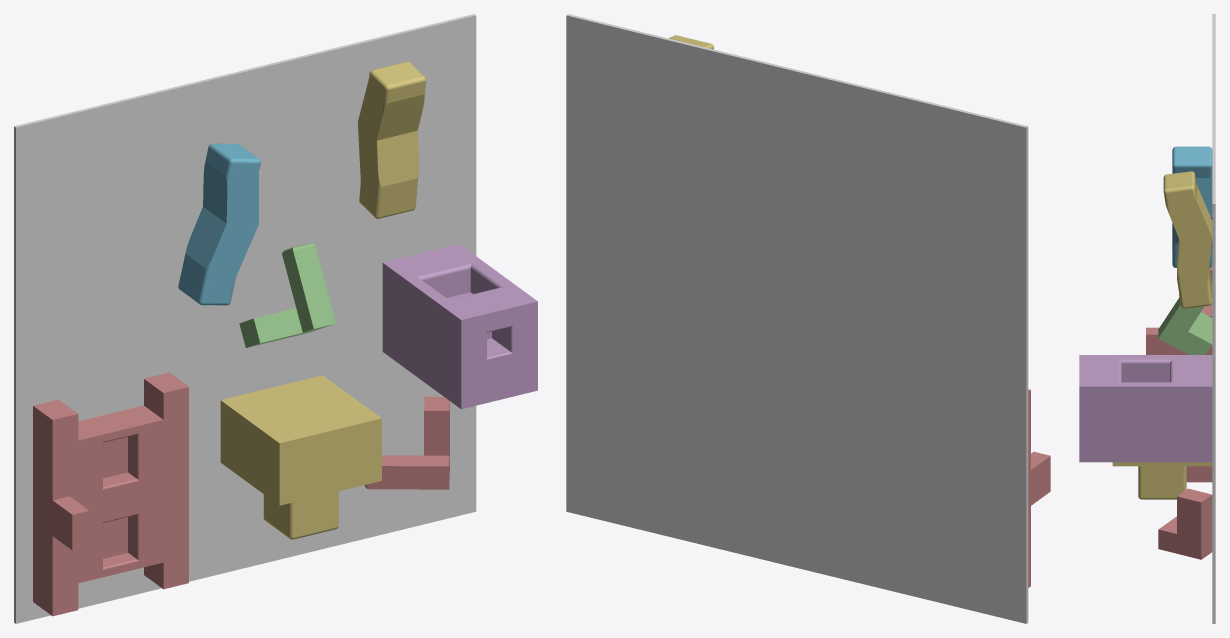
File: pickup_layout.glb
The picture shows the model from 3 angles, left to right: view 1: azimuth 30°, elevation 25°; view 2: azimuth 150°, elevation 25°; view 3: azimuth 270°, elevation 25°; orthographic projection. The views are drawn at different scales.
Visible parts, largest first — view 1: world, 0.obj, 3.obj, 6.obj, 2.obj, 1.obj, 4.obj, 5.obj; view 2: world, 0.obj; view 3: 3.obj, 1.obj, 5.obj, world, 4.obj, 6.obj, 2.obj, 0.obj.
Part boxes in pixels (x1,y1,x2,y2): world: (14,14,476,623); 0.obj: (33,372,188,616); 3.obj: (382,244,537,409); 6.obj: (220,375,381,539); 2.obj: (178,143,260,305); 1.obj: (357,61,425,218); 4.obj: (239,243,335,347); 5.obj: (365,396,449,489); world: (566,14,1028,623); 0.obj: (1028,389,1050,587); 3.obj: (1079,355,1212,462); 1.obj: (1163,171,1212,308); 5.obj: (1158,488,1212,559); world: (1212,14,1215,623); 4.obj: (1158,284,1212,354); 6.obj: (1112,462,1212,499); 2.obj: (1172,146,1212,267); 0.obj: (1146,266,1212,482).
Size of the model in its own units: 27 by 27.82 by 8.2.
